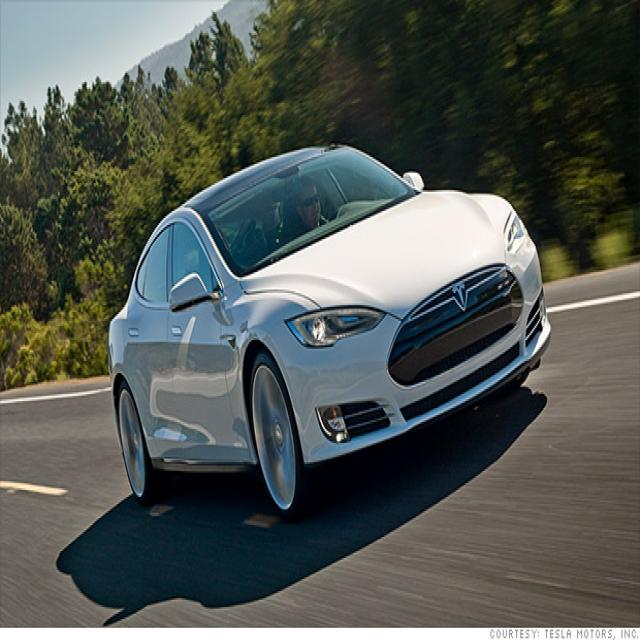car: (94, 119, 562, 542)
